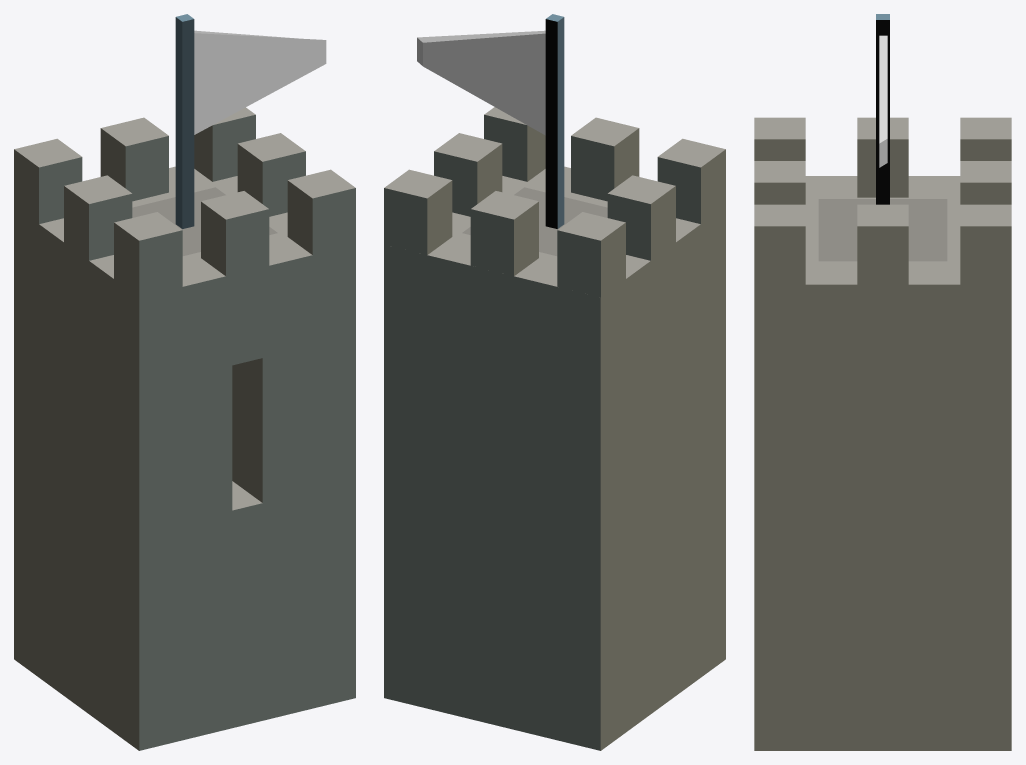
Rendered from GR_Tower.fbx.
The picture shows the model from 3 angles, left to right: view 1: azimuth 30°, elevation 25°; view 2: azimuth 150°, elevation 25°; view 3: azimuth 270°, elevation 25°; orthographic projection. The views are drawn at different scales.
Parts seen in each view (by area): view 1: GR_Tower, Flag; view 2: GR_Tower, Flag; view 3: GR_Tower, Flag.
Boxes of the visible parts, bbox=[...] form: GR_Tower: bbox=[14, 14, 355, 750]; Flag: bbox=[194, 30, 326, 134]; GR_Tower: bbox=[384, 14, 725, 750]; Flag: bbox=[417, 30, 545, 135]; GR_Tower: bbox=[754, 14, 1011, 750]; Flag: bbox=[879, 35, 887, 167].
Size of the model in its own units: 229 by 583 by 200.
